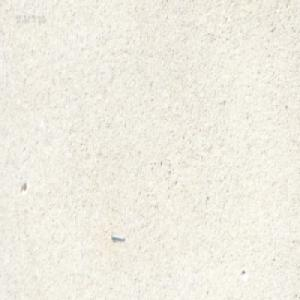Nail: (110, 232, 125, 241)
